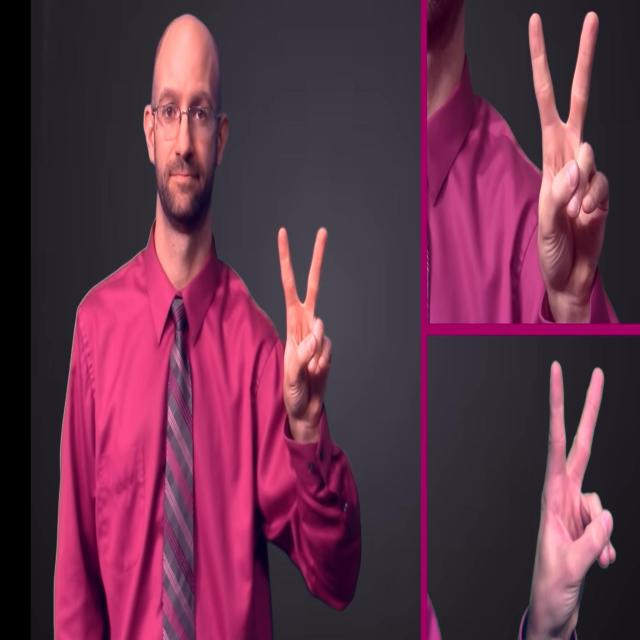V: (520, 356, 618, 640), (526, 9, 612, 300), (274, 223, 334, 427)
